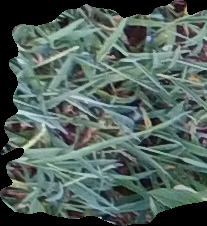grass: (1, 1, 206, 225)
